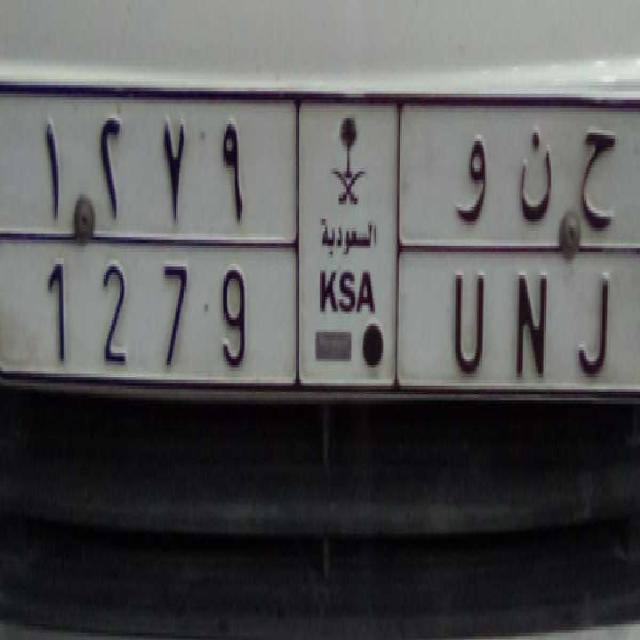license_plate: (0, 238, 640, 396)
